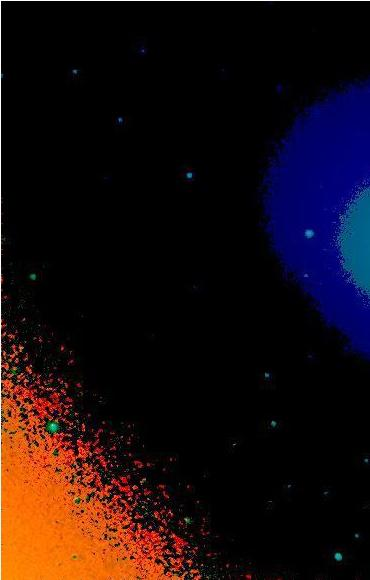star: (2, 333, 32, 363)
